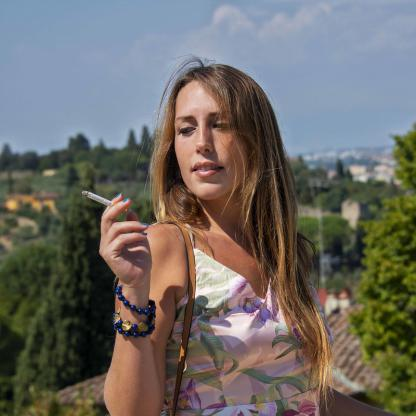smoking: (82, 190, 127, 213)
